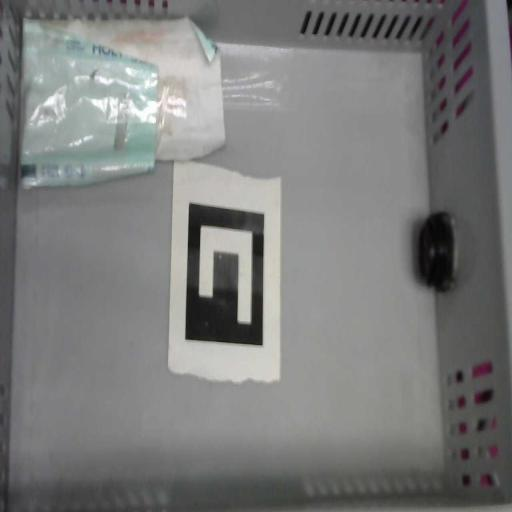QR: (168, 162, 281, 384)
triple_syringe: (18, 16, 226, 190)
